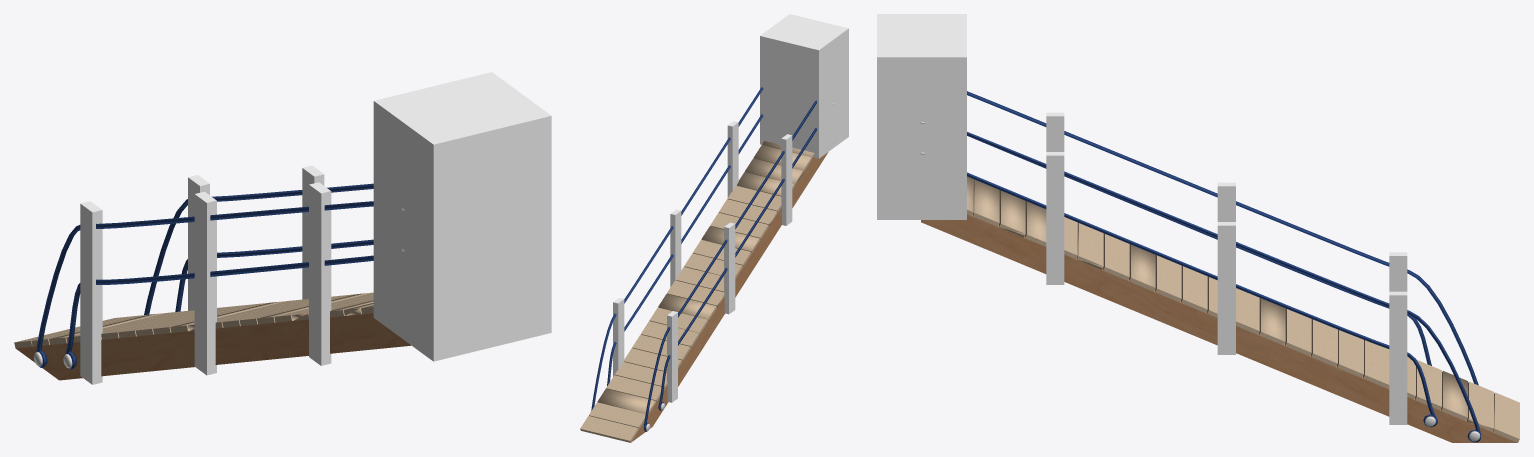
The model's file is P-GP-12.d56daefc.glb.
3 views of the same model, side by side, from view 1: azimuth 30°, elevation 25°; view 2: azimuth 150°, elevation 25°; view 3: azimuth 270°, elevation 25° (orthographic). The views are drawn at different scales.
Parts seen in each view (by area): view 1: joint,0,6, Plane001, Plane052, Plane052_1, Plane052.001; view 2: Plane052.001, joint,0,6, Plane001, Plane052_1, Plane052; view 3: Plane052.001, joint,0,6, Plane052, Plane001, Plane052_1.
Boxes of the visible parts, box(x1,y1,x2,y2) form: joint,0,6: box(373, 72, 551, 361); Plane001: box(80, 165, 331, 384); Plane052: box(16, 313, 410, 380); Plane052_1: box(36, 183, 373, 369); Plane052.001: box(14, 292, 373, 348); Plane052.001: box(580, 141, 814, 442); joint,0,6: box(760, 14, 848, 158); Plane001: box(613, 121, 792, 402); Plane052_1: box(591, 87, 816, 431); Plane052: box(631, 152, 828, 442); Plane052.001: box(967, 176, 1519, 442); joint,0,6: box(877, 14, 966, 219); Plane052: box(921, 214, 1517, 442); Plane001: box(1046, 112, 1407, 424); Plane052_1: box(967, 91, 1481, 442).
Size of the model in its own units: 0.5779 by 2.39 by 3.58.
Materials: 6 (3 with a texture image).
